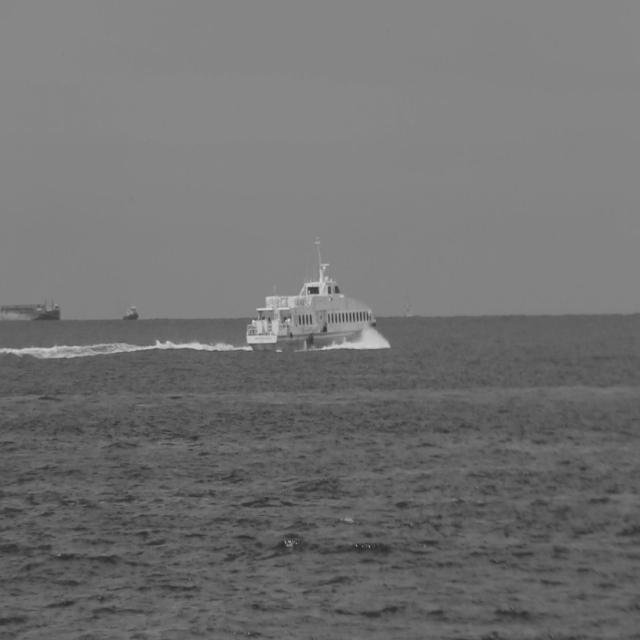ship: (237, 238, 369, 350), (1, 297, 62, 321)
